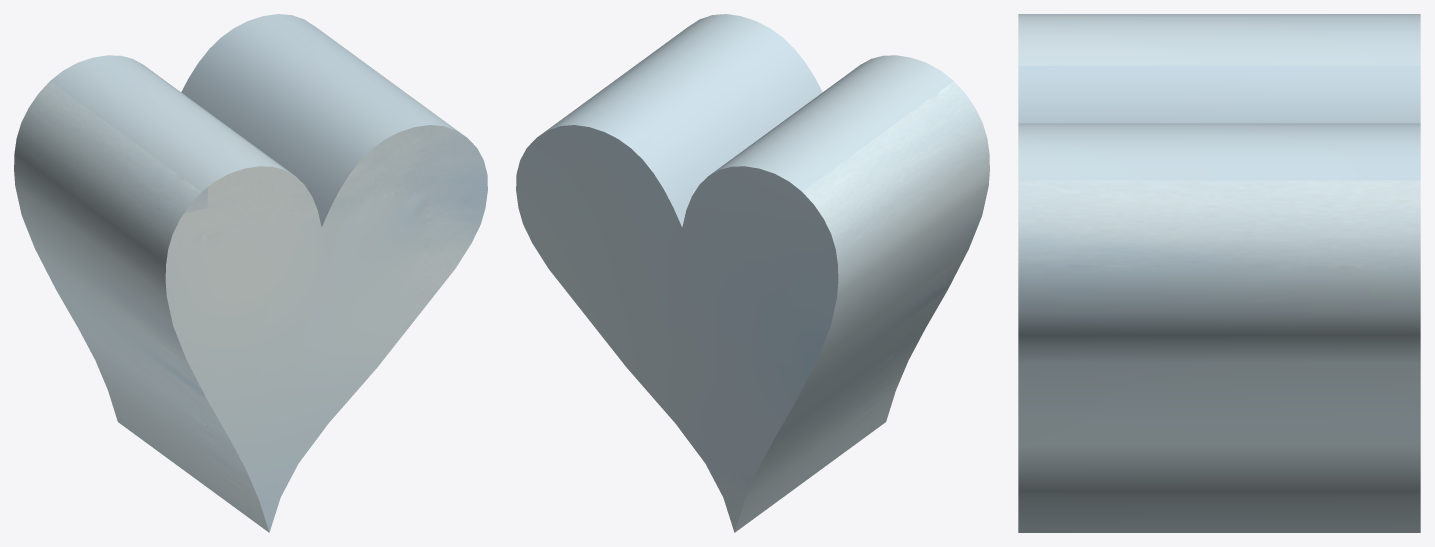
File: heartVertexAnimation.glb
3 views of the same model, side by side, from view 1: azimuth 30°, elevation 25°; view 2: azimuth 150°, elevation 25°; view 3: azimuth 270°, elevation 25° (orthographic). The views are drawn at different scales.
Bounding box in the file's own units: 16.65 × 18.28 × 13.56.
1 material, 1 textured.
